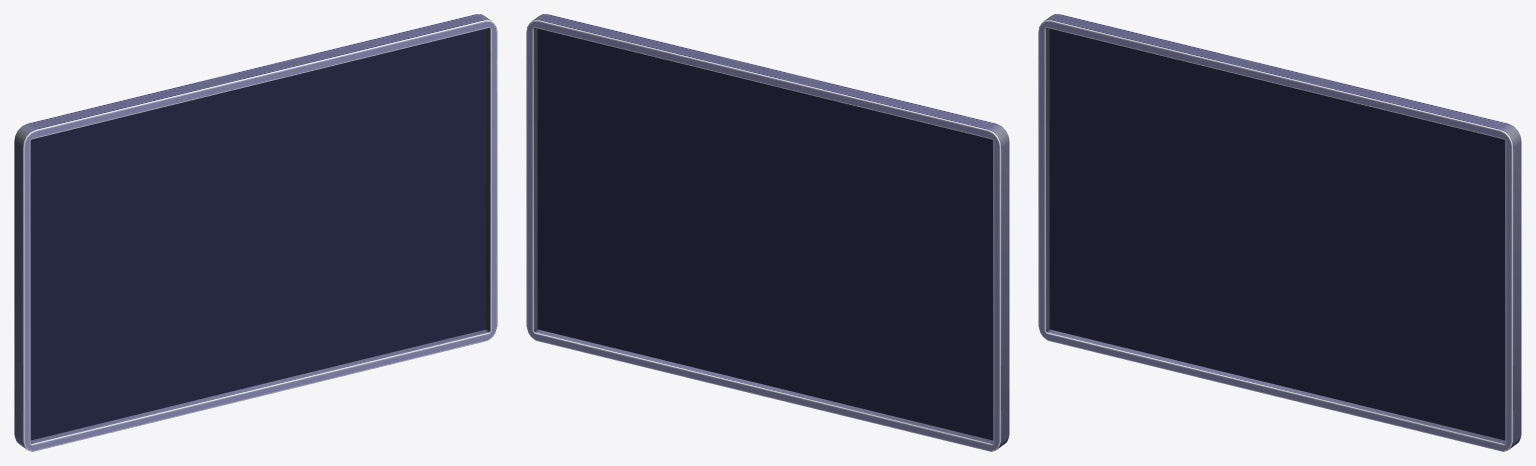
File: workstation_display.glb
3 renders of one model, left to right at view 1: azimuth 30°, elevation 25°; view 2: azimuth 150°, elevation 25°; view 3: azimuth 330°, elevation 25°, orthographic.
Parts seen in each view (by area): view 1: obj_queue; view 2: obj_queue; view 3: obj_queue.
Boxes of the visible parts, x1,y1,x2,y2 form: obj_queue: (14, 14, 497, 451); obj_queue: (526, 14, 1009, 451); obj_queue: (1038, 14, 1521, 451).
Size of what is drawn, in the model's own units: 0.8734 by 0.565 by 0.0303.
1 material, 1 textured.
